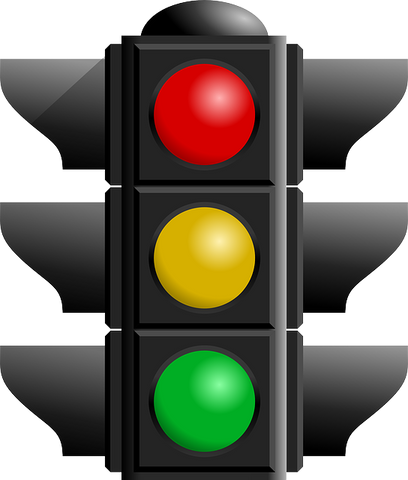TraficLight: (5, 7, 408, 470)
